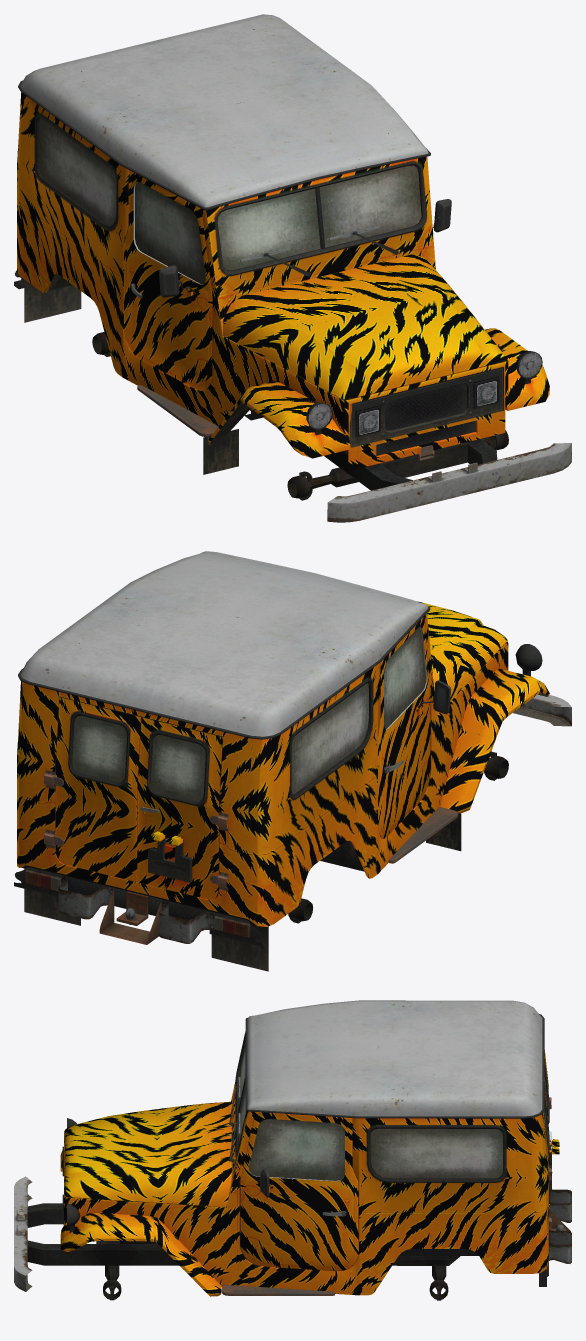
File: 1960_Jeep.FBX
3 renders of one model, top to bottom at view 1: azimuth 30°, elevation 25°; view 2: azimuth 150°, elevation 25°; view 3: azimuth 270°, elevation 25°, orthographic. The views are drawn at different scales.
Parts seen in each view (by area): view 1: 1960_Jeep; view 2: 1960_Jeep; view 3: 1960_Jeep.
Part boxes in pixels (x1=…): 1960_Jeep: x1=14, y1=14, x2=571, y2=522; 1960_Jeep: x1=14, y1=551, x2=571, y2=971; 1960_Jeep: x1=14, y1=1000, x2=571, y2=1300.
Size of the model in its own units: 282 by 251 by 560.
2 materials, 2 textured.
